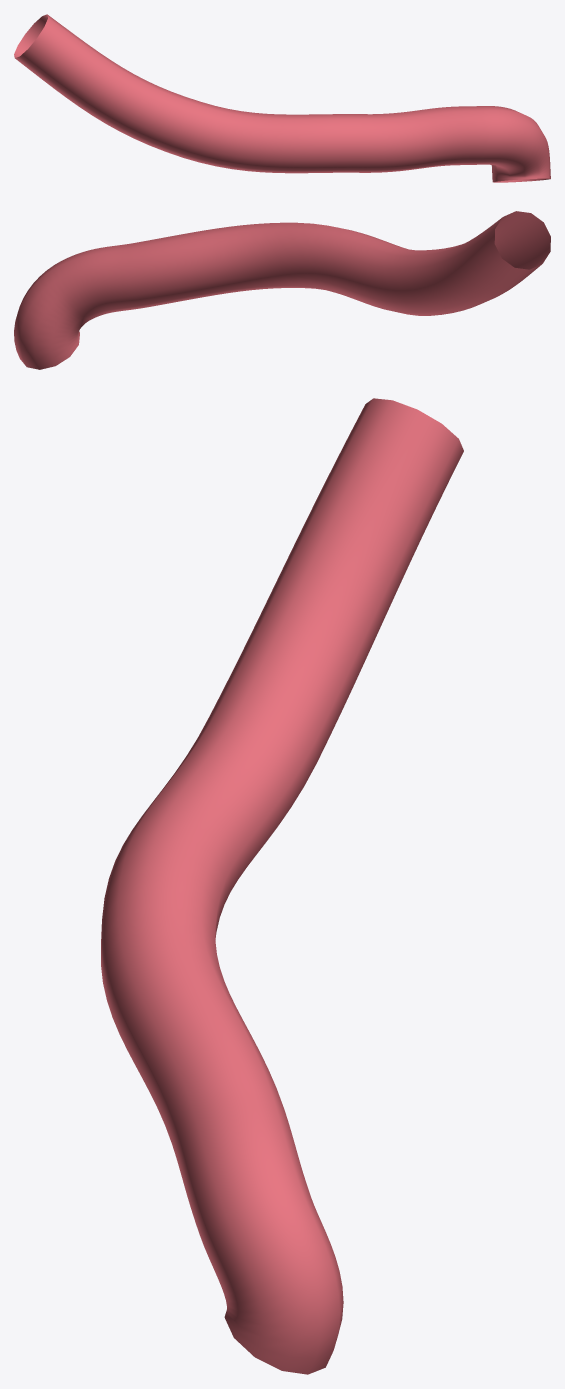
The picture shows the model from 3 angles, top to bottom: view 1: azimuth 30°, elevation 25°; view 2: azimuth 150°, elevation 25°; view 3: azimuth 270°, elevation 25°; orthographic projection. The views are drawn at different scales.
Parts seen in each view (by area): view 1: ZA_acab27ca23589d83; view 2: ZA_acab27ca23589d83; view 3: ZA_acab27ca23589d83.
Boxes of the visible parts, box(x1,y1,x2,y2) form: ZA_acab27ca23589d83: box(14, 14, 550, 182); ZA_acab27ca23589d83: box(14, 211, 550, 369); ZA_acab27ca23589d83: box(101, 398, 463, 1374).
Size of the model in its own units: 0.0295 by 0.0148 by 0.00926.
